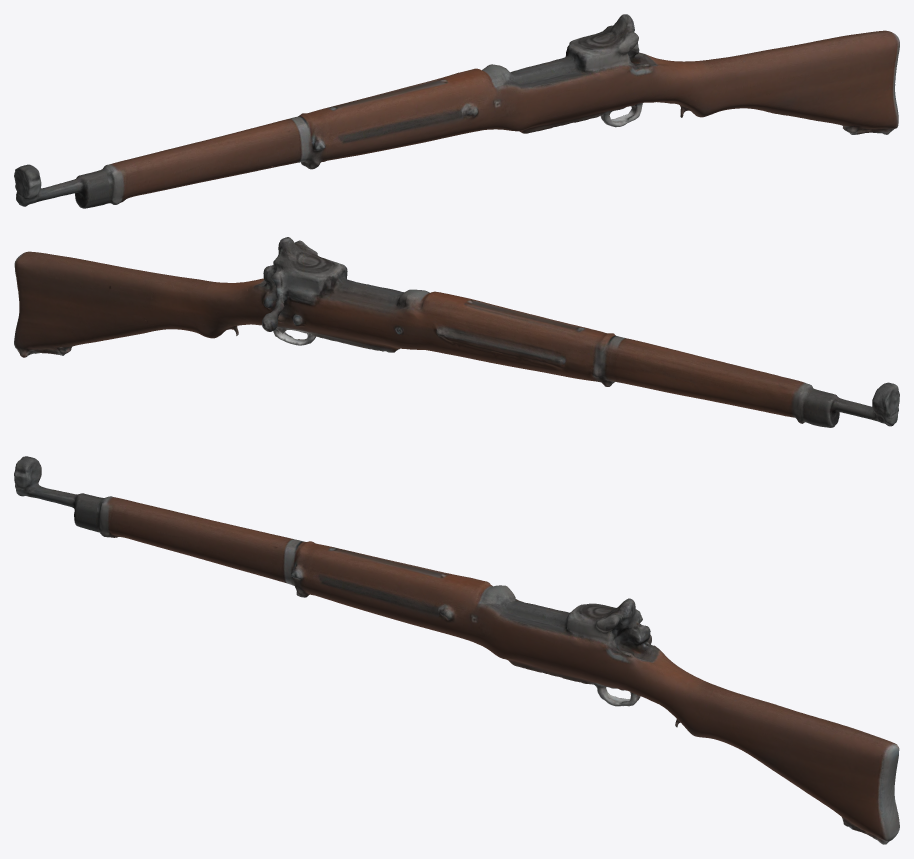
File: Type 38 Arisaka.glb
3 renders of one model, top to bottom at view 1: azimuth 30°, elevation 25°; view 2: azimuth 150°, elevation 25°; view 3: azimuth 330°, elevation 25°, orthographic.
Size of the model in its own units: 2 by 0.3937 by 0.1838.
Materials: 1 (1 with a texture image).
